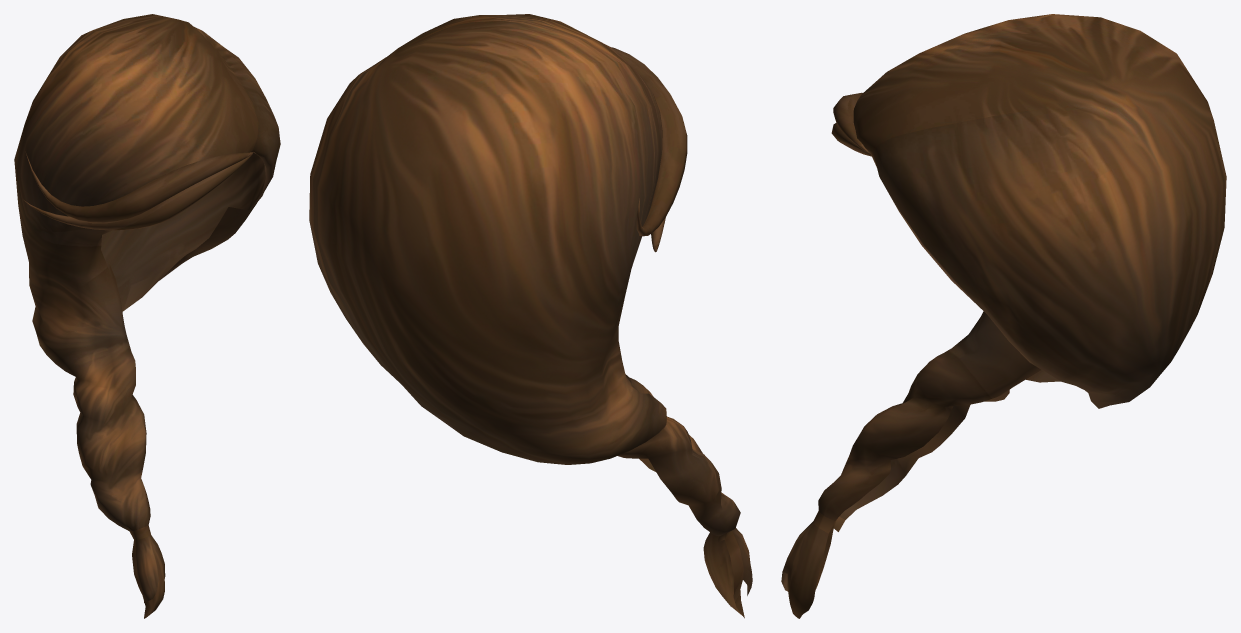
The model's file is HairtStyle_01.fbx.
3 views of the same model, side by side, from view 1: azimuth 30°, elevation 25°; view 2: azimuth 150°, elevation 25°; view 3: azimuth 270°, elevation 25° (orthographic). The views are drawn at different scales.
Visible parts, largest first — view 1: Hairstyle1; view 2: Hairstyle1; view 3: Hairstyle1.
Boxes of the visible parts, x1,y1,x2,y2 form: Hairstyle1: (14, 14, 280, 618); Hairstyle1: (309, 14, 752, 618); Hairstyle1: (781, 14, 1226, 618).
Bounding box in the file's own units: 0.1761 × 0.3393 × 0.209.
